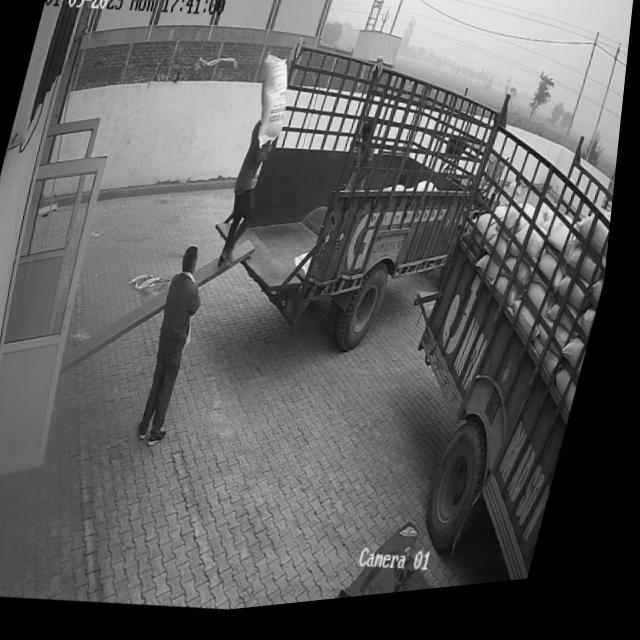sack: (245, 54, 304, 157)
